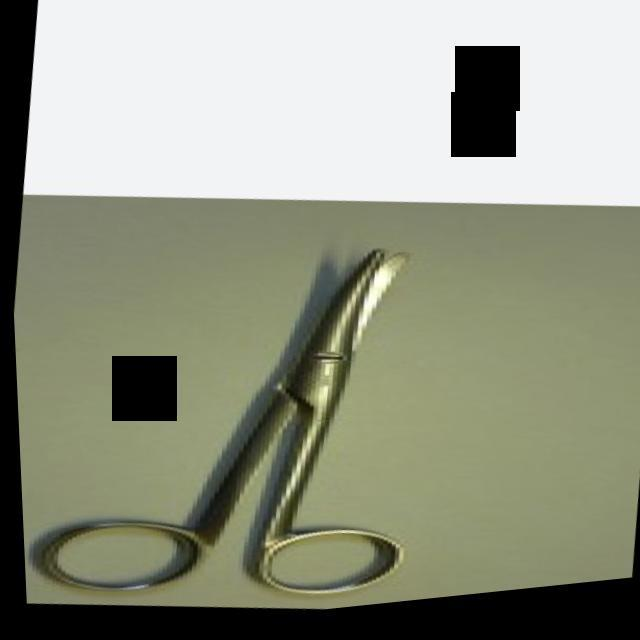Curved Mayo: (9, 204, 498, 640)
